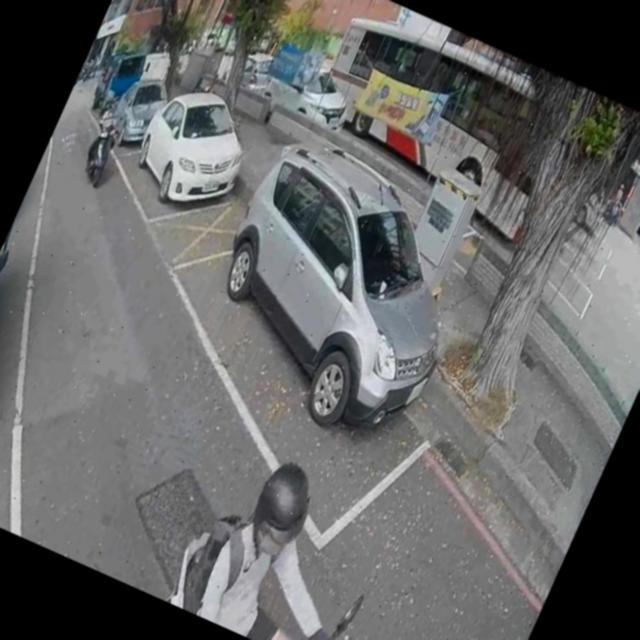person: (189, 443, 396, 640), (81, 92, 133, 175), (603, 178, 632, 224)
